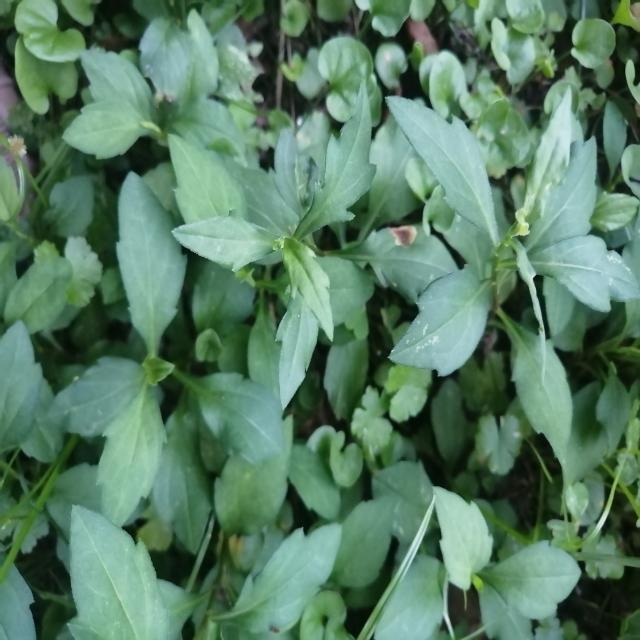Indian aster: (67, 157, 290, 548), (410, 78, 620, 436), (189, 112, 423, 380)
